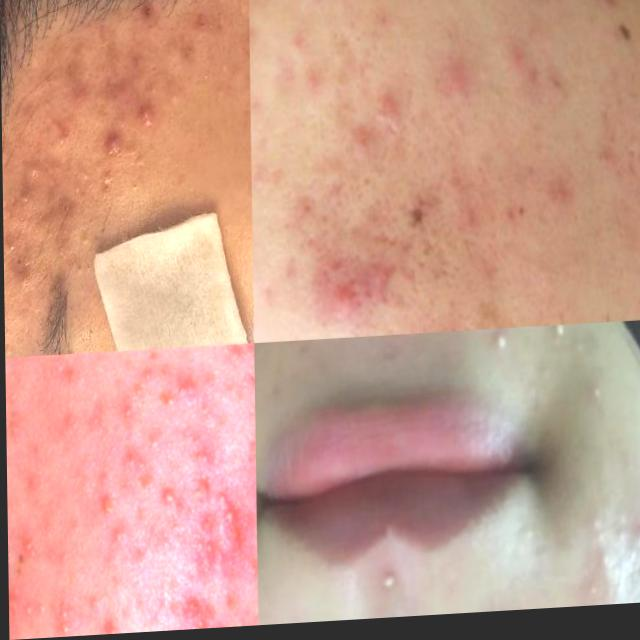8: (426, 50, 473, 116), (316, 276, 369, 325), (368, 79, 409, 141), (107, 440, 148, 489), (172, 362, 198, 421), (497, 46, 528, 90), (222, 346, 253, 382), (225, 597, 256, 630), (71, 77, 97, 116), (238, 464, 255, 518), (92, 612, 122, 636), (290, 0, 328, 16), (23, 155, 43, 184)
9: (365, 557, 405, 613), (538, 170, 574, 228), (14, 583, 52, 627), (482, 334, 516, 366), (537, 331, 573, 361), (12, 526, 35, 569), (84, 489, 113, 522), (151, 480, 178, 515), (624, 524, 640, 563), (629, 567, 640, 599)
blackheads: (396, 192, 449, 238), (184, 511, 213, 594), (359, 224, 405, 270), (213, 485, 240, 555), (96, 125, 128, 169), (9, 258, 39, 304), (137, 100, 156, 143)
dark spot: (122, 169, 145, 210), (67, 251, 94, 283), (14, 184, 33, 207), (245, 228, 252, 264)
